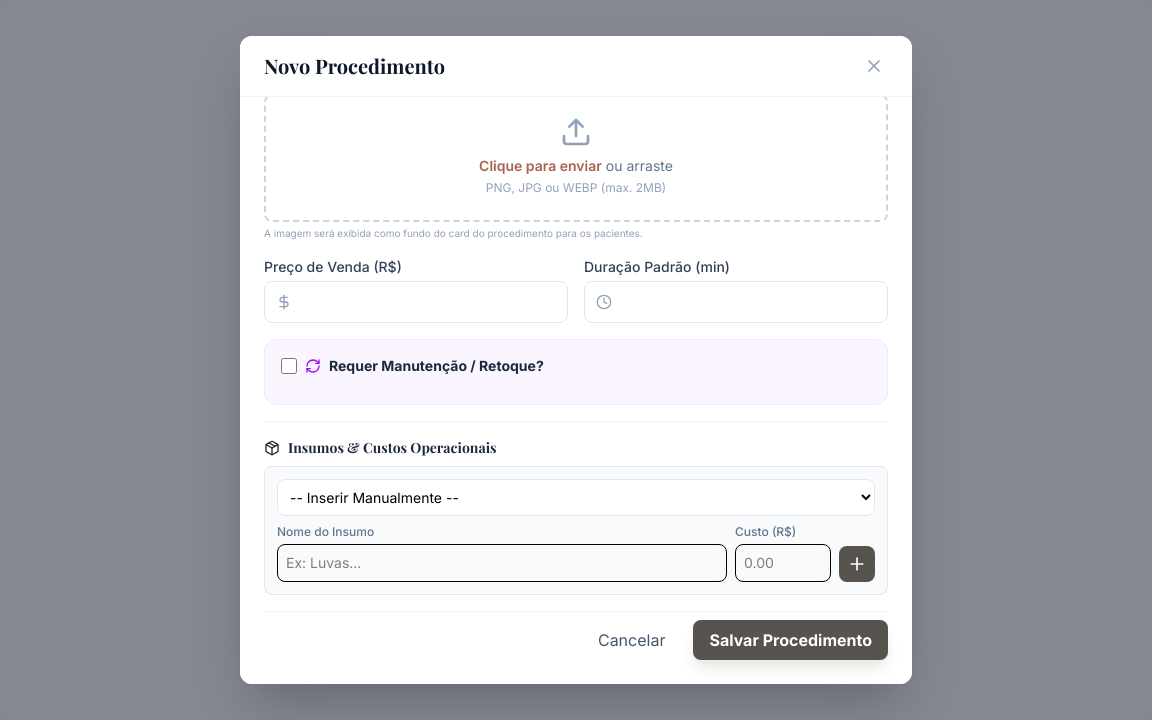
NewProcedureModal — custo dos insumos › totalCost exibido = insumo de estoque (qty × costPerUnit) + insumo manual
(page scrolled)
Select "Toxina Botulínica (un)" in the dropdown at (576, 498), box [277,479,875,516]
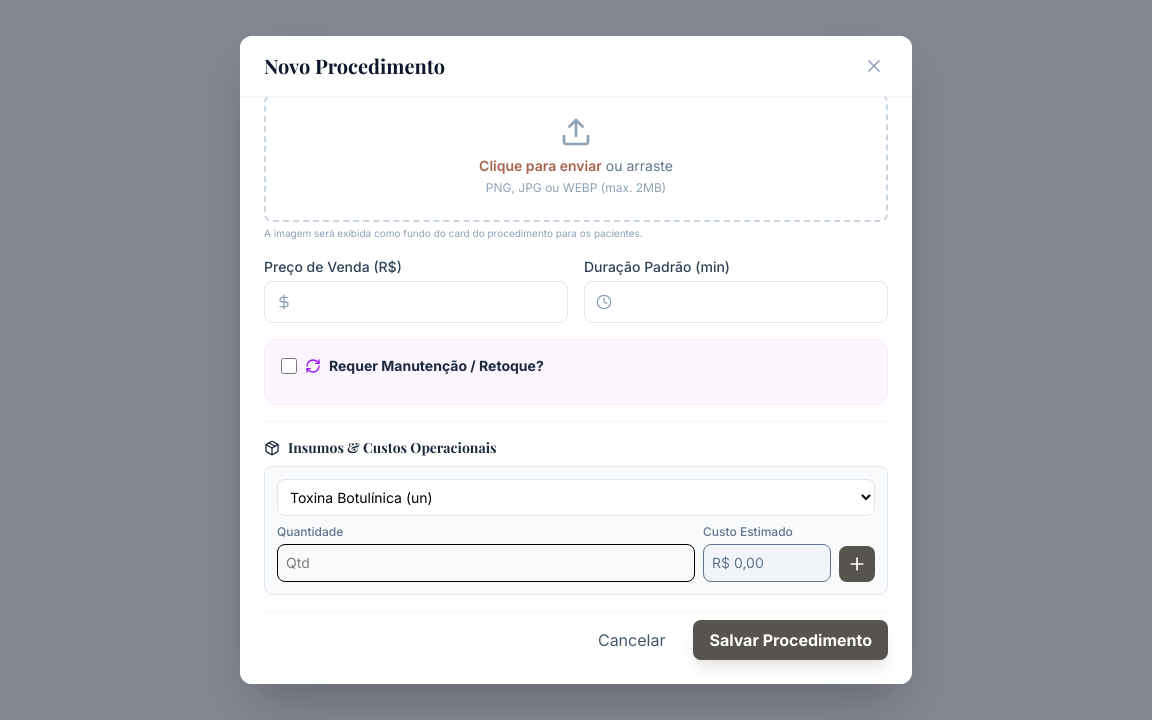
Type "2" into the number field with placeholder "Qtd" at (486, 563), box [277,544,695,582]
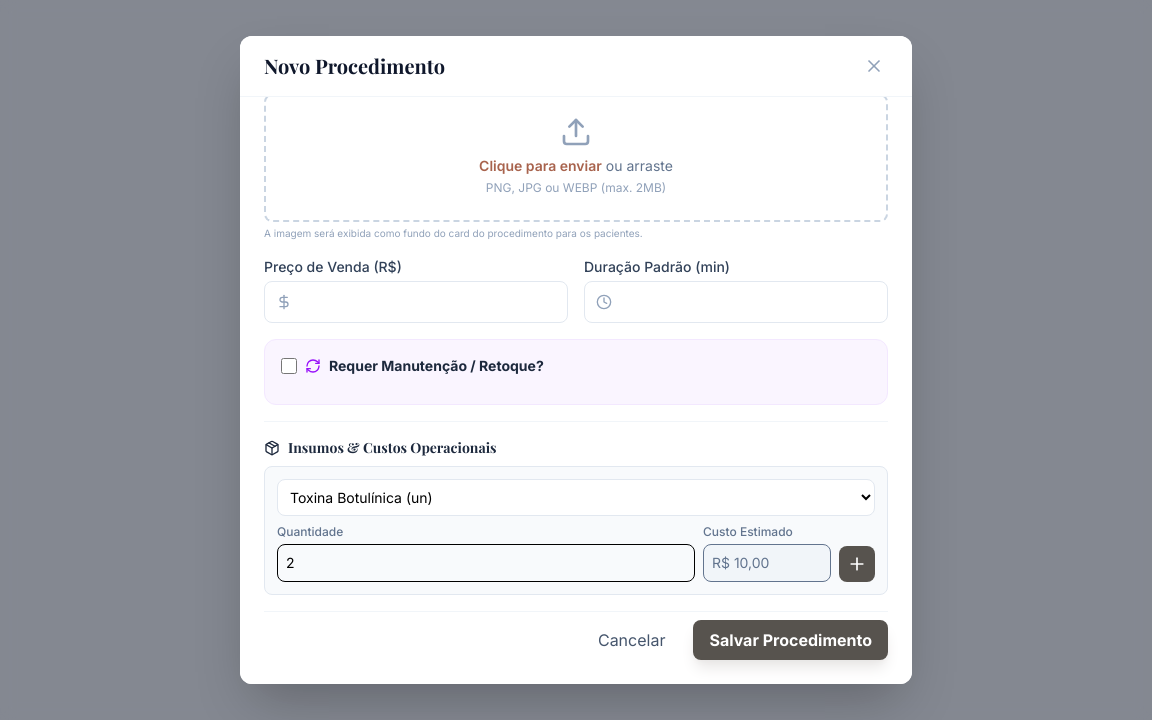
Click the button without text below "Custo Estimado" at (857, 564), box [839,546,875,582]
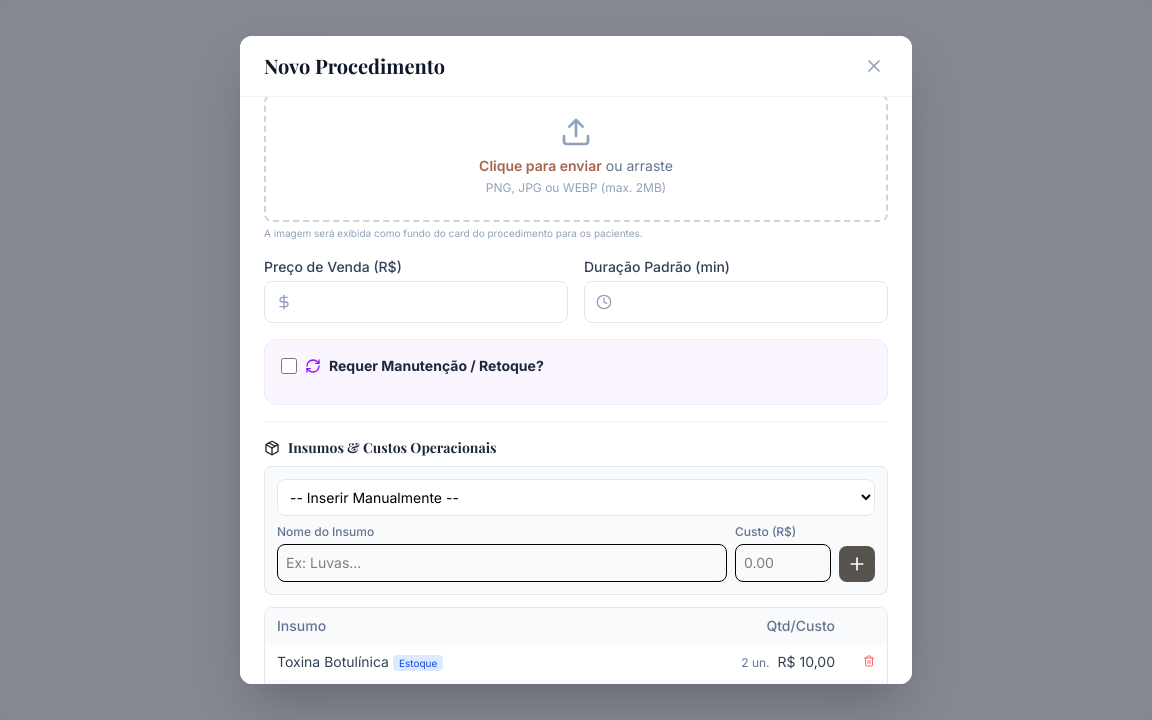
// insumo manual: 3
Type "Gaze estéril" into the field with placeholder "Ex: Luvas..." at (502, 563), box [277,544,727,582]
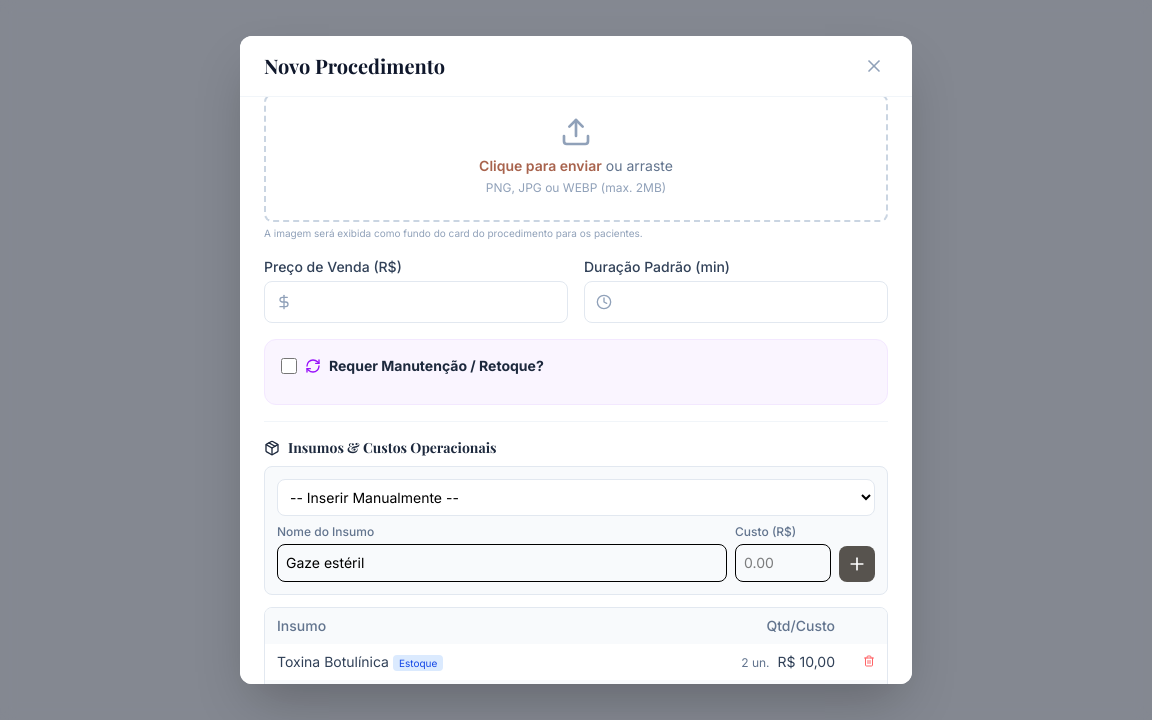
Type "3" into the number field with placeholder "0.00" at (783, 563), box [735,544,831,582]
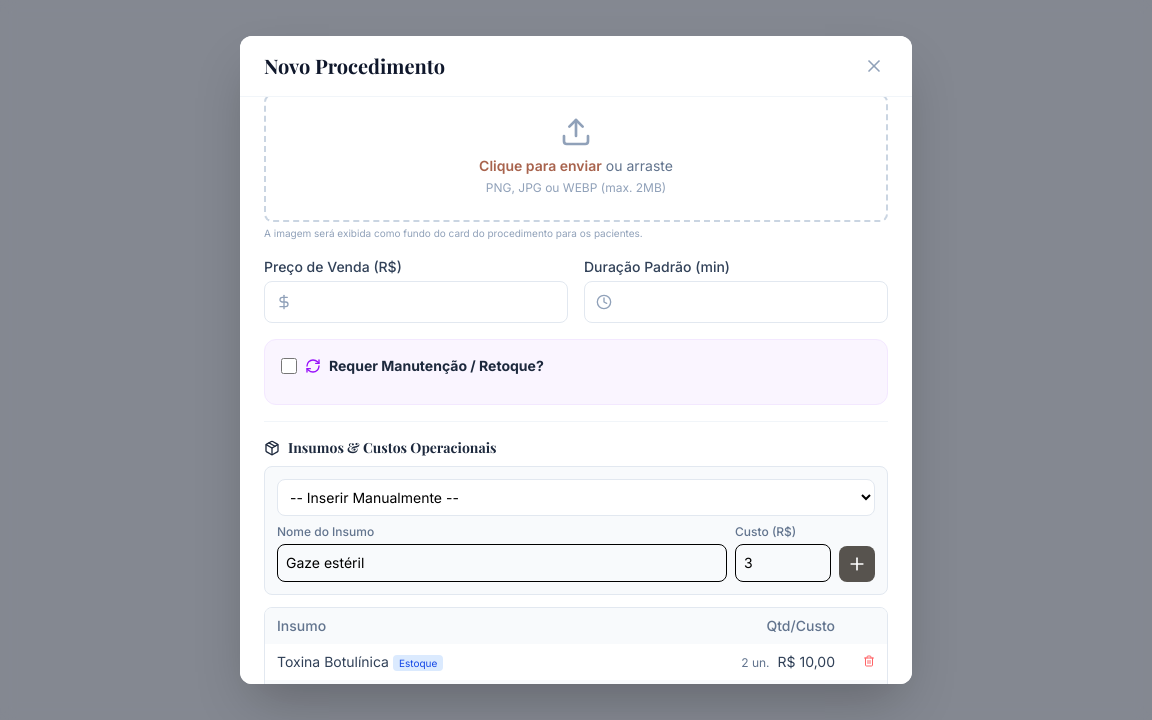
Click the button without text below "Custo (R$)" at (857, 564), box [839,546,875,582]
(page scrolled)
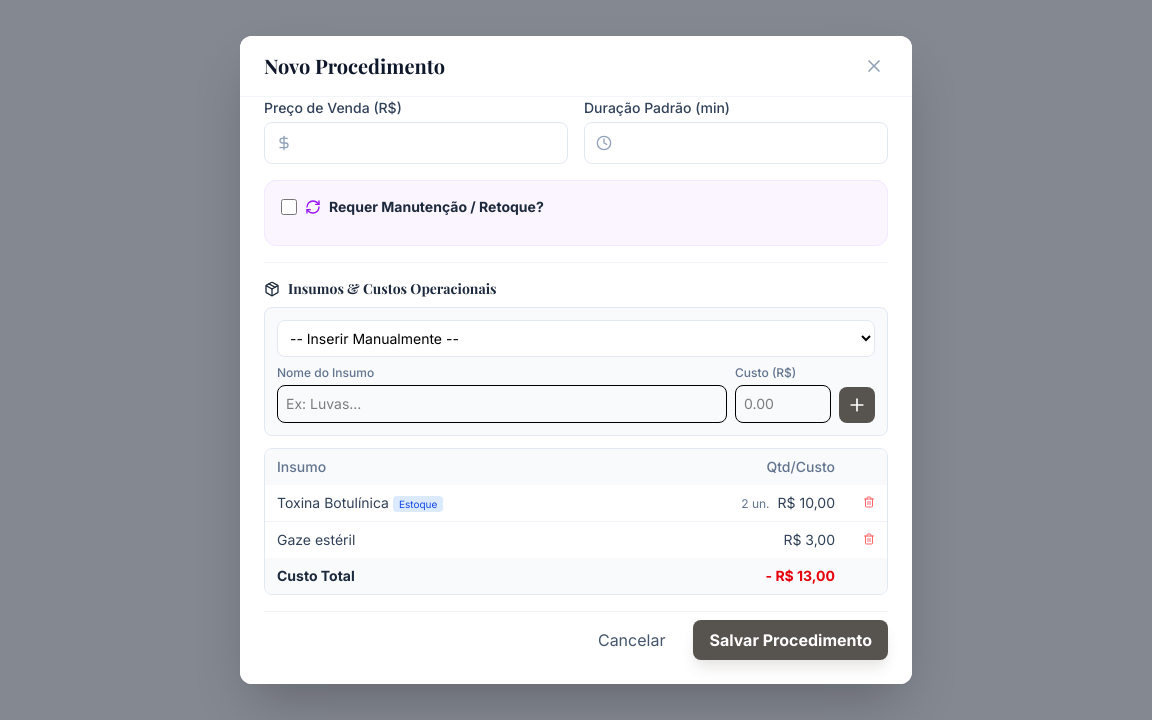
Result: the text "- R$ 13,00" is shown at [624,558,847,594]
